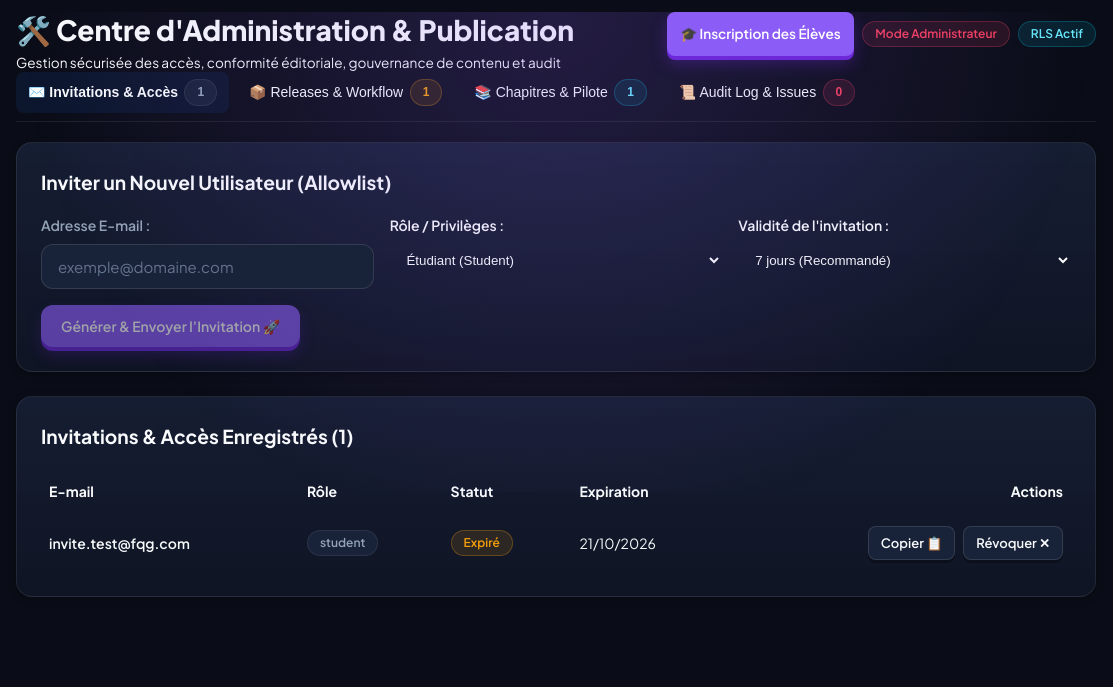
Test: AdminPage & AdminGuard (Etapa 7) › permite preencher e enviar novo convite via formulário
Expected: the text "invite.test@fqg.com" is shown, [41,514,299,572]
Type "nouveau.prof@fqg.com" into the field labelled "Adresse E-mail :" at (207, 266), box [41,244,374,289]
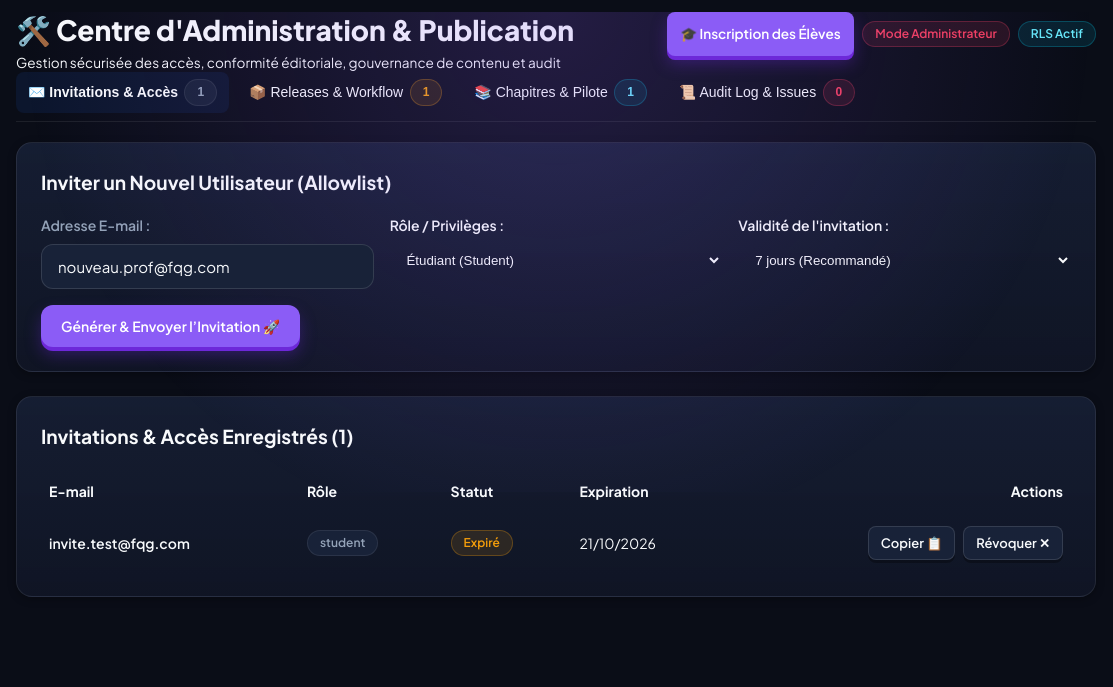
Click the button "Générer & Envoyer l’Invitation 🚀" at (171, 326), box [41,305,300,347]
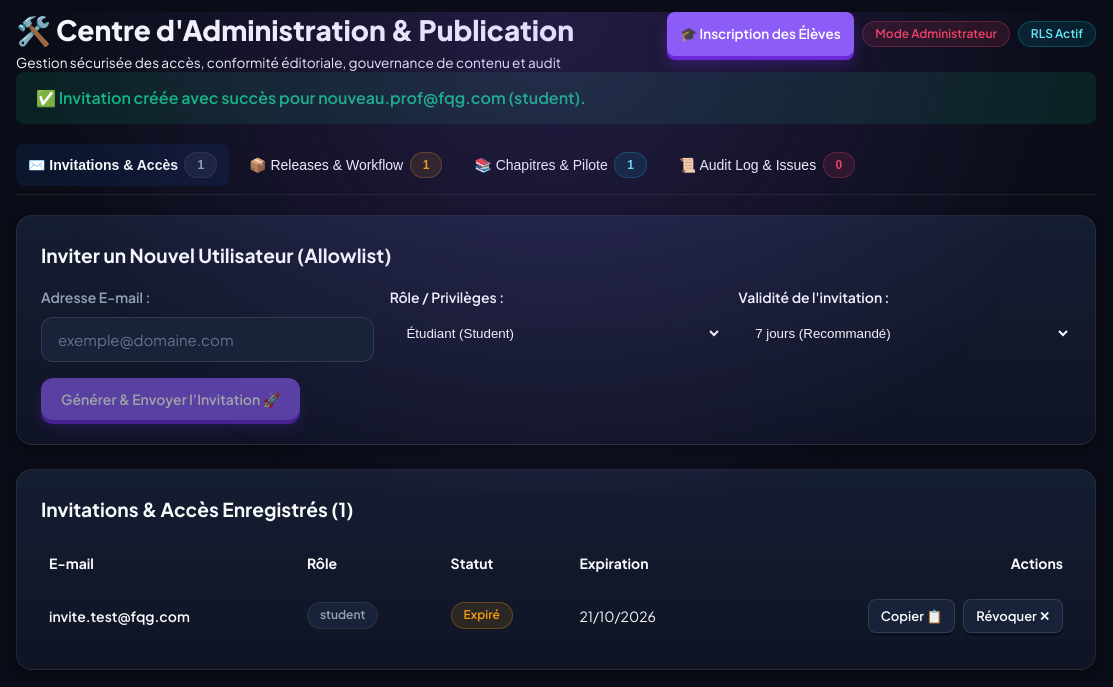
Expected: the text "Invitation créée avec succès" is shown, [36,87,586,108]
